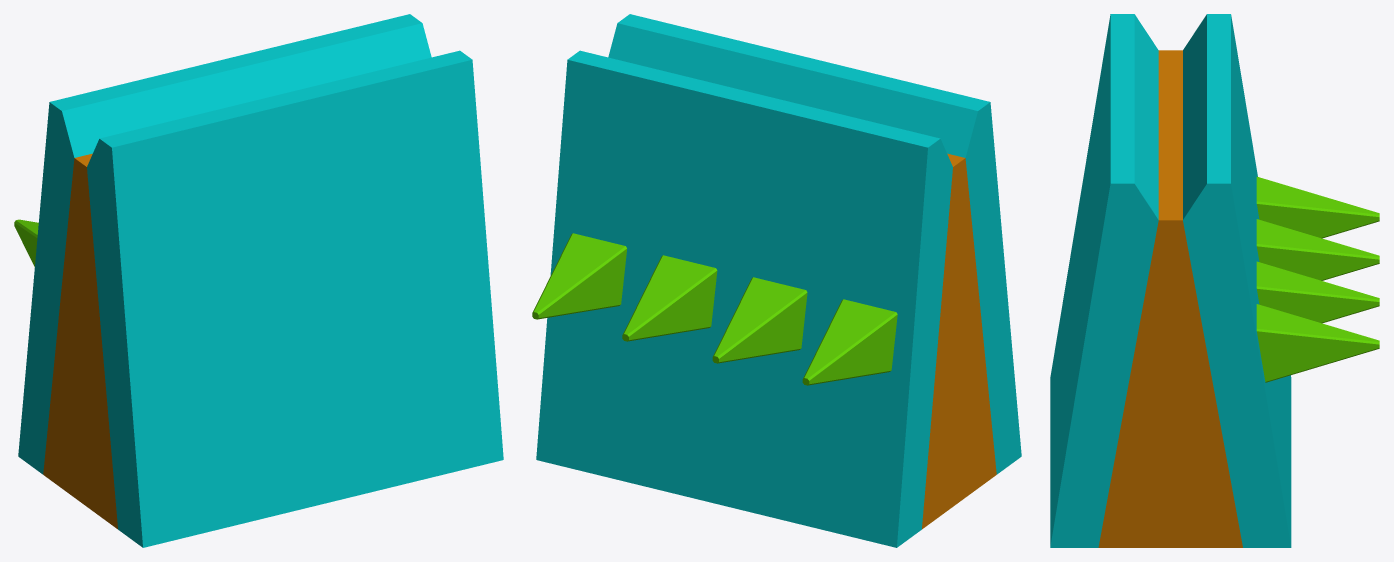
Rendered from Wall.fbx.
3 renders of one model, left to right at view 1: azimuth 30°, elevation 25°; view 2: azimuth 150°, elevation 25°; view 3: azimuth 270°, elevation 25°, orthographic. The views are drawn at different scales.
Visible parts, largest first — view 1: Cube, Cube.002; view 2: Cube, Cube.002; view 3: Cube, Cube.002.
Boxes of the visible parts, x1,y1,x2,y2 form: Cube: [18, 14, 503, 547]; Cube.002: [14, 219, 38, 266]; Cube: [536, 14, 1021, 547]; Cube.002: [532, 233, 897, 385]; Cube: [1050, 14, 1291, 547]; Cube.002: [1256, 176, 1379, 382].
Bounding box in the file's own units: 200 × 200 × 164.
